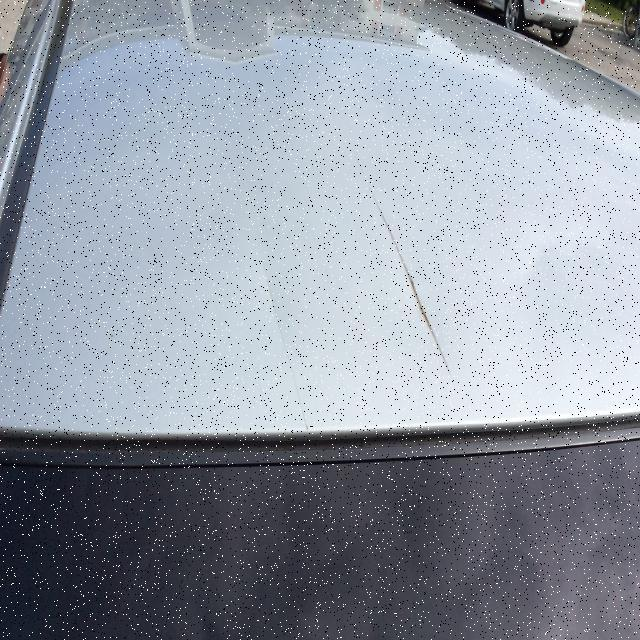roof-dent: (6, 1, 394, 640), (342, 0, 638, 640)
